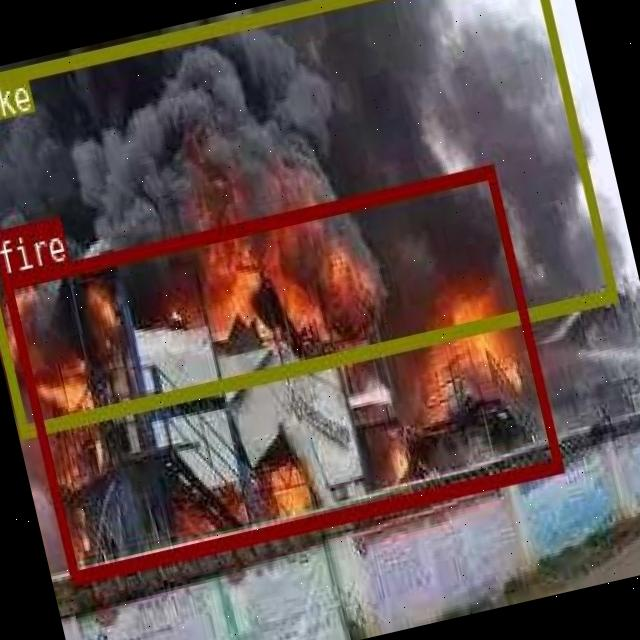fire: (0, 162, 562, 582)
smoke: (0, 0, 614, 434)
